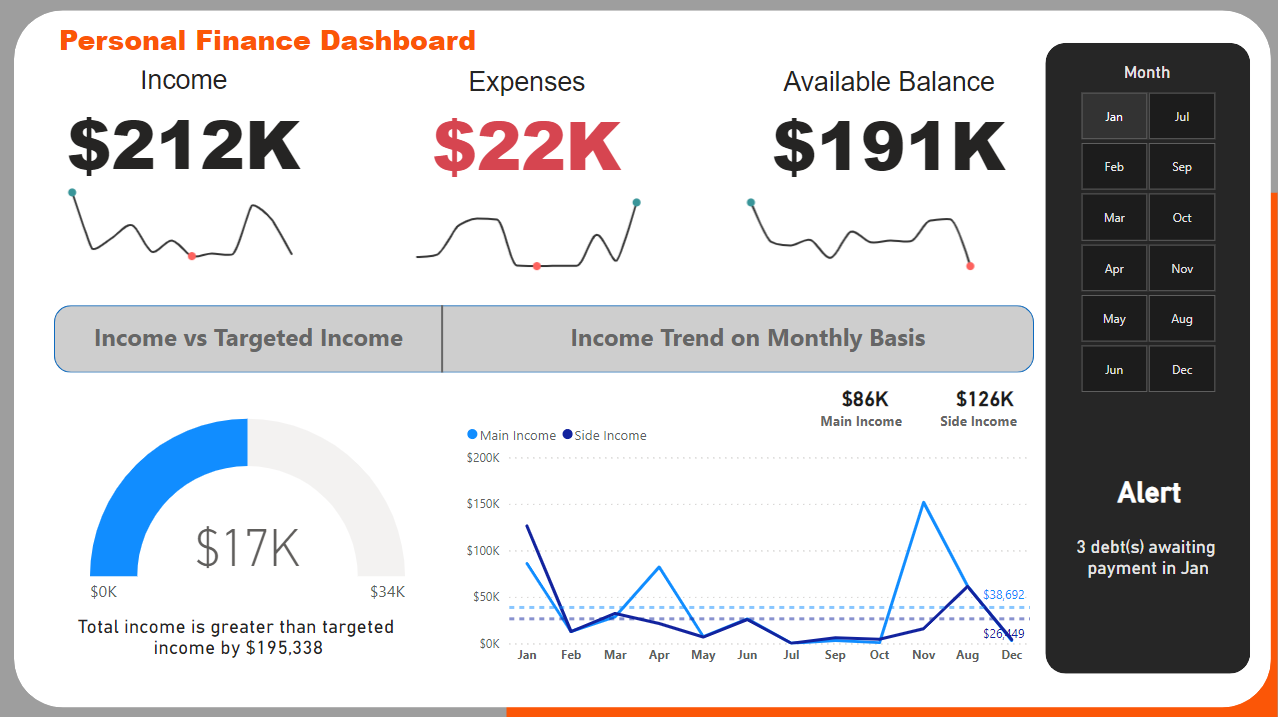

The page's visual inventory and layout, read from the dashboard file:
{"tool":"powerbi","page":{"name":"Page 1","canvas":[1280,720],"ordinal":0},"visuals":[{"type":"shape","box":[507.9,194.2,772.1,526],"z":0},{"type":"shape","box":[14.5,10.9,1257.1,697.3],"z":1000},{"type":"card","title":"Expenses","fields":{"Values":["All measures.Total Expenses"]},"box":[400.5,67.6,255.8,118.2],"z":2000},{"type":"card","title":"Available Balance","fields":{"Values":["All measures.Available Balance"]},"box":[733.5,67.6,312.5,118.2],"z":3000},{"type":"card","title":"Income","fields":{"Values":["All measures.Total Income"]},"box":[55.5,66.4,259.4,119.4],"z":4000},{"type":"PBI_CV_25997FEB_F466_44FA_B562_AC4063283C4C","fields":{"measure":["All measures.Total Income"],"axis":["Income Goal.Month"]},"box":[55.5,176.1,259.4,91.7],"z":5000},{"type":"shape","box":[1046,43.4,205.1,631],"z":6000},{"type":"textbox","box":[55,16.2,452.5,55],"z":7000},{"type":"PBI_CV_25997FEB_F466_44FA_B562_AC4063283C4C","fields":{"axis":["Income Goal.Month"],"measure":["All measures.Total Expenses"]},"box":[400.5,185.8,259.4,91.7],"z":8000},{"type":"PBI_CV_25997FEB_F466_44FA_B562_AC4063283C4C","fields":{"measure":["All measures.Available Balance"],"axis":["Income Goal.Month"]},"box":[733.5,185.8,259.4,91.7],"z":9000},{"type":"gauge","fields":{"Y":["Income Goal.Total Income Target"],"TargetValue":["All measures.Total Income"]},"box":[55.5,415,387.3,199.1],"z":10000},{"type":"slicer","title":"Month","fields":{"Values":["Income Goal.Month"]},"box":[1056.2,62.5,183.8,337.5],"z":11000},{"type":"card","fields":{"Values":["All measures.Guage Caption"]},"box":[36.2,600.8,406.6,73.6],"z":12000},{"type":"lineChart","fields":{"Y":["All measures.Main Income","All measures.Side Income"],"Category":["Income Goal.Month"]},"box":[462.1,415,573.1,259.4],"z":13000},{"type":"card","fields":{"Values":["All measures.Main Income"]},"box":[806.2,385,120,30],"z":14000},{"type":"card","fields":{"Values":["All measures.Side Income"]},"box":[926.5,384.9,119.4,30.2],"z":15000},{"type":"shape","box":[55,306.2,980,67.5],"z":16000},{"type":"textbox","box":[816.2,407.5,100,32.5],"z":17000},{"type":"textbox","box":[936.2,407.5,100,32.5],"z":18000},{"type":"textbox","box":[72.5,316.2,353.8,53.8],"z":19000},{"type":"shape","box":[367.5,306.2,151.2,67.5],"z":20000},{"type":"textbox","box":[557.5,316.2,382.5,53.8],"z":21000},{"type":"card","fields":{"Values":["All measures.Debt Summary"]},"box":[1065,478.8,168.8,158.8],"z":22000},{"type":"textbox","box":[1107.5,471.2,86.2,43.8],"z":23000}]}

Visuals, with their boxes in screenshot pixels (x1, y1, x2, y2), scaled from the page's 1280x720 canvas onto the 1278x717 screenshot:
shape: bbox=(507, 193, 1277, 716)
shape: bbox=(14, 11, 1270, 705)
"Expenses" card: bbox=(400, 67, 655, 185)
"Available Balance" card: bbox=(732, 67, 1044, 185)
"Income" card: bbox=(55, 66, 314, 185)
PBI_CV_25997FEB_F466_44FA_B562_AC4063283C4C - All measures.Total Income x Income Goal.Month: bbox=(55, 175, 314, 267)
shape: bbox=(1044, 43, 1249, 672)
textbox: bbox=(55, 16, 507, 71)
PBI_CV_25997FEB_F466_44FA_B562_AC4063283C4C - Income Goal.Month x All measures.Total Expenses: bbox=(400, 185, 659, 276)
PBI_CV_25997FEB_F466_44FA_B562_AC4063283C4C - All measures.Available Balance x Income Goal.Month: bbox=(732, 185, 991, 276)
gauge - Income Goal.Total Income Target x All measures.Total Income: bbox=(55, 413, 442, 612)
"Month" slicer: bbox=(1055, 62, 1238, 398)
card - All measures.Guage Caption: bbox=(36, 598, 442, 672)
lineChart - All measures.Main Income x All measures.Side Income: bbox=(461, 413, 1034, 672)
card - All measures.Main Income: bbox=(805, 383, 925, 413)
card - All measures.Side Income: bbox=(925, 383, 1044, 413)
shape: bbox=(55, 305, 1033, 372)
textbox: bbox=(815, 406, 915, 438)
textbox: bbox=(935, 406, 1035, 438)
textbox: bbox=(72, 315, 426, 368)
shape: bbox=(367, 305, 518, 372)
textbox: bbox=(557, 315, 939, 368)
card - All measures.Debt Summary: bbox=(1063, 477, 1232, 635)
textbox: bbox=(1106, 469, 1192, 513)
